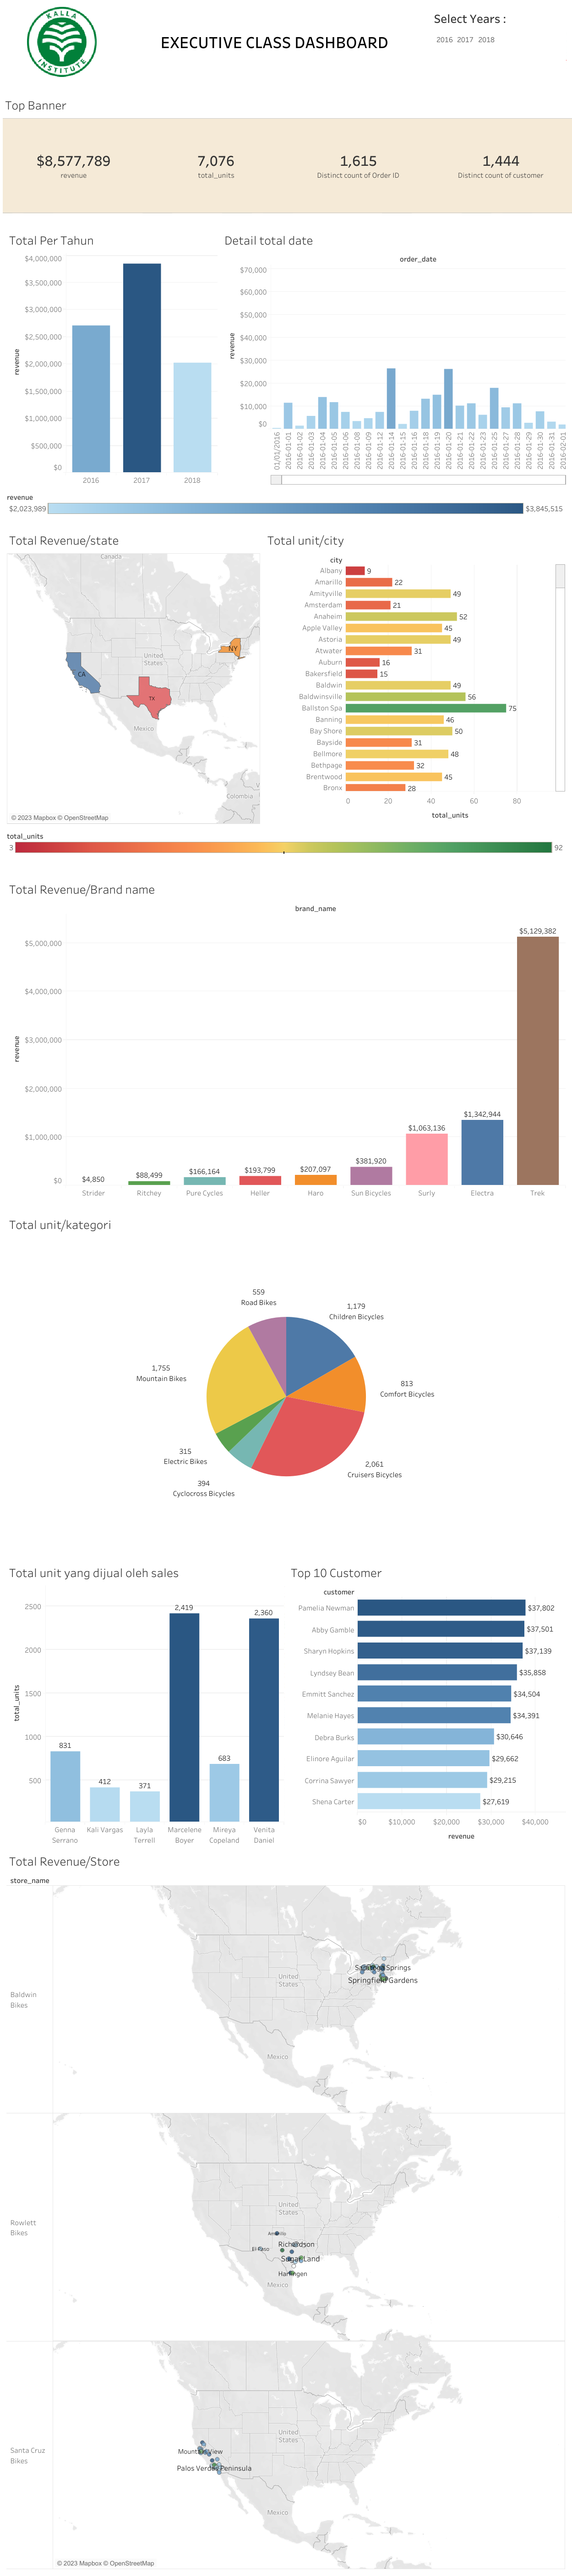

The page's visual inventory and layout, read from the dashboard file:
{"tool":"tableau","page":{"name":"Dashboard 2","canvas":[1000,4500],"ordinal":0},"visuals":[{"type":"image","param":"Image/kalla.ico","box":[8,8,201,130]},{"type":"text","box":[209,8,541,130]},{"type":"worksheet","title":"Year","mark":"Automatic","box":[750,8,242,130]},{"type":"blank","box":[8,138,984,257]},{"type":"worksheet","title":"Top Banner","mark":"Automatic","box":[5,163,996,209]},{"type":"worksheet","title":"Total Per Tahun","mark":"Automatic","rows":["revenue"],"box":[8,395,376,456]},{"type":"worksheet","title":"Detail total date","mark":"Automatic","rows":["revenue"],"cols":["order_date"],"box":[384,395,608,456]},{"type":"legend","title":"Total Per Tahun","param":"[federated.1opmrdr03o4lz41b7iiup1fupapu].[sum:revenue:qk]","box":[8,851,984,73]},{"type":"worksheet","title":"Total Revenue/state","mark":"Multipolygon","box":[8,924,451,524]},{"type":"worksheet","title":"Total unit/city","mark":"Automatic","rows":["city"],"cols":["total_units"],"box":[459,924,533,524]},{"type":"legend","title":"Total unit/city","param":"[federated.1opmrdr03o4lz41b7iiup1fupapu].[sum:total_units:qk]","box":[8,1448,984,86]},{"type":"worksheet","title":"Total Revenue/brand name","mark":"Bar","rows":["revenue"],"cols":["brand_name"],"box":[8,1534,984,585]},{"type":"worksheet","title":"Total unit/kategori","mark":"Pie","box":[8,2119,984,603]},{"type":"worksheet","title":"Total unit yang dijual oleh sales","mark":"Automatic","rows":["total_units"],"cols":["sales_rep"],"box":[8,2722,492,504]},{"type":"worksheet","title":"Top 10 Customer","mark":"Automatic","rows":["customer"],"cols":["revenue"],"box":[500,2722,492,504]},{"type":"worksheet","title":"Total Revenue/Store","mark":"Multipolygon","rows":["store_name"],"box":[8,3226,984,1266]}]}

Visuals, with their boxes in screenshot pixels (x1, y1, x2, y2), scaled from the page's 1000x4500 canvas onto the 572x2576 screenshot:
image: <bbox>5, 5, 120, 79</bbox>
text: <bbox>120, 5, 429, 79</bbox>
"Year" worksheet: <bbox>429, 5, 567, 79</bbox>
blank: <bbox>5, 79, 567, 226</bbox>
"Top Banner" worksheet: <bbox>3, 93, 572, 213</bbox>
"Total Per Tahun" worksheet: <bbox>5, 226, 220, 487</bbox>
"Detail total date" worksheet: <bbox>220, 226, 567, 487</bbox>
"Total Per Tahun" legend: <bbox>5, 487, 567, 529</bbox>
"Total Revenue/state" worksheet (Multipolygon marks): <bbox>5, 529, 262, 829</bbox>
"Total unit/city" worksheet: <bbox>262, 529, 567, 829</bbox>
"Total unit/city" legend: <bbox>5, 829, 567, 878</bbox>
"Total Revenue/brand name" worksheet (Bar marks): <bbox>5, 878, 567, 1213</bbox>
"Total unit/kategori" worksheet (Pie marks): <bbox>5, 1213, 567, 1558</bbox>
"Total unit yang dijual oleh sales" worksheet: <bbox>5, 1558, 286, 1847</bbox>
"Top 10 Customer" worksheet: <bbox>286, 1558, 567, 1847</bbox>
"Total Revenue/Store" worksheet (Multipolygon marks): <bbox>5, 1847, 567, 2571</bbox>
